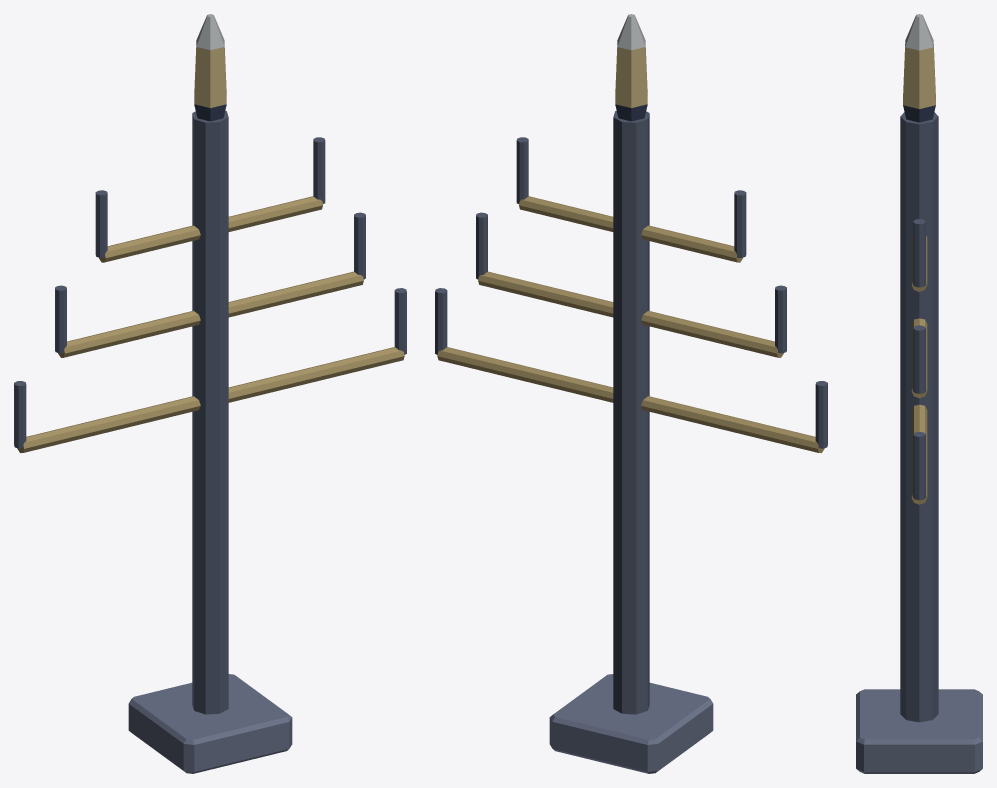
Rendered from antenna-array.glb.
3 views of the same model, side by side, from view 1: azimuth 30°, elevation 25°; view 2: azimuth 150°, elevation 25°; view 3: azimuth 270°, elevation 25° (orthographic).
Parts seen in each view (by area): view 1: antenna-array__body; view 2: antenna-array__body; view 3: antenna-array__body.
Part boxes in pixels (x1=…): antenna-array__body: x1=14, y1=14, x2=406, y2=773; antenna-array__body: x1=435, y1=14, x2=827, y2=773; antenna-array__body: x1=856, y1=14, x2=982, y2=773.
Size of the model in its own units: 1.44 by 2.55 by 0.4.
